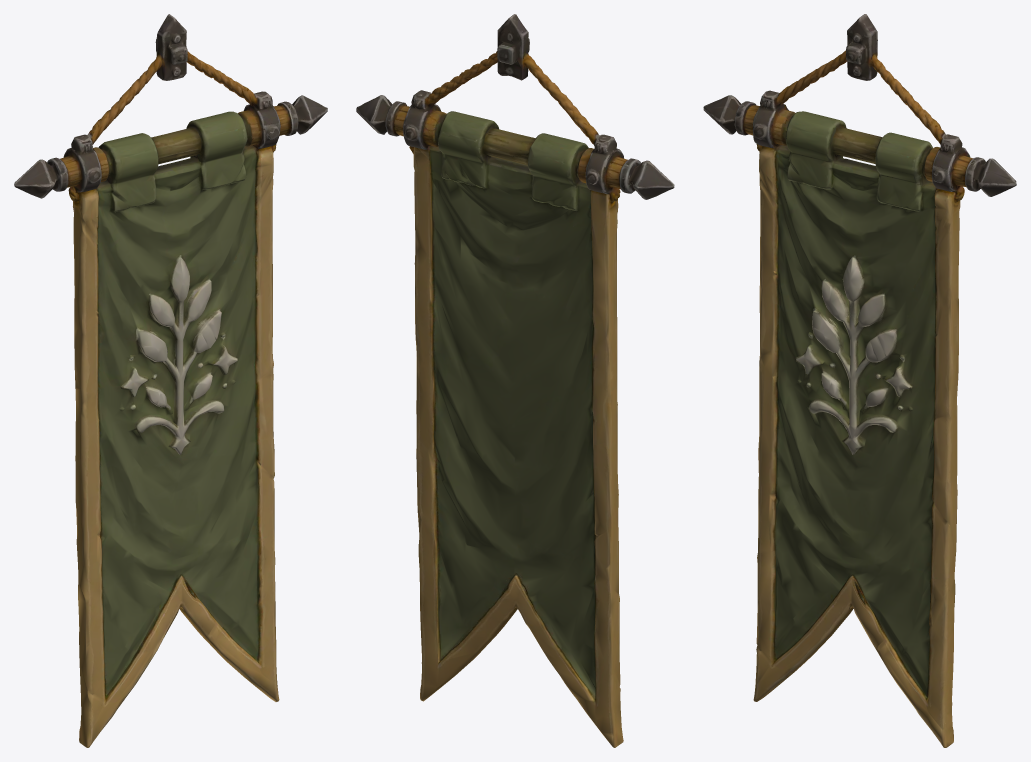
File: trim_banner.glb
3 views of the same model, side by side, from view 1: azimuth 30°, elevation 25°; view 2: azimuth 150°, elevation 25°; view 3: azimuth 330°, elevation 25° (orthographic).
Visible parts, largest first — view 1: tripo_node_ae4e3f73-a11f-4e86-93e0-15d7c4427c82; view 2: tripo_node_ae4e3f73-a11f-4e86-93e0-15d7c4427c82; view 3: tripo_node_ae4e3f73-a11f-4e86-93e0-15d7c4427c82.
Boxes of the visible parts, left/top/right/bottom form: tripo_node_ae4e3f73-a11f-4e86-93e0-15d7c4427c82: left=14, top=14, right=327, bottom=747; tripo_node_ae4e3f73-a11f-4e86-93e0-15d7c4427c82: left=356, top=14, right=674, bottom=747; tripo_node_ae4e3f73-a11f-4e86-93e0-15d7c4427c82: left=703, top=14, right=1016, bottom=747.
Bounding box in the file's own units: 0.4566 × 0.9785 × 0.0667.
Materials: 1 (1 with a texture image).
